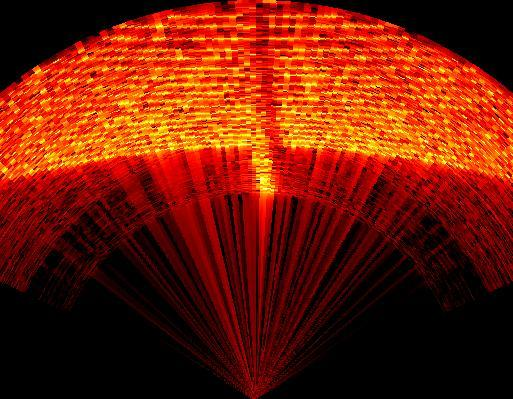pipe: (244, 3, 284, 147)
